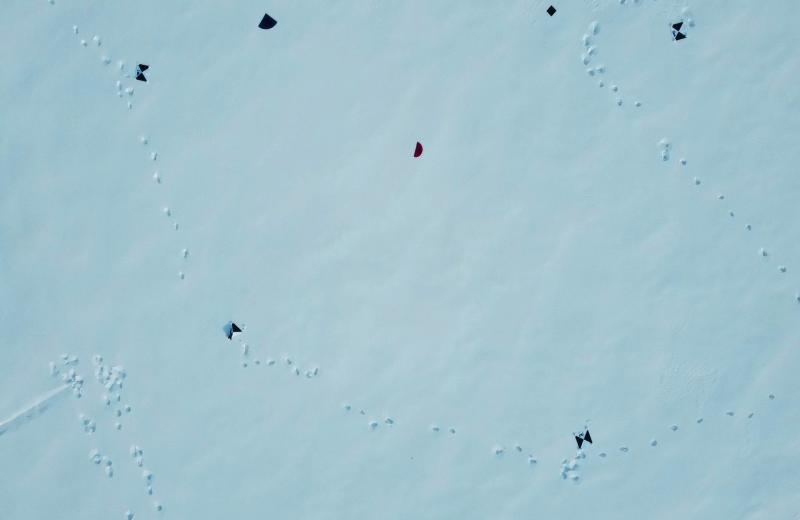Quarter Circle: (258, 12, 278, 30)
Semi Circle: (413, 141, 424, 158)
Square: (546, 4, 557, 19)
